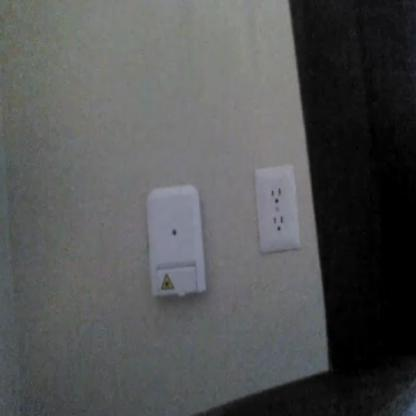OUTLET: (255, 165, 299, 248)
